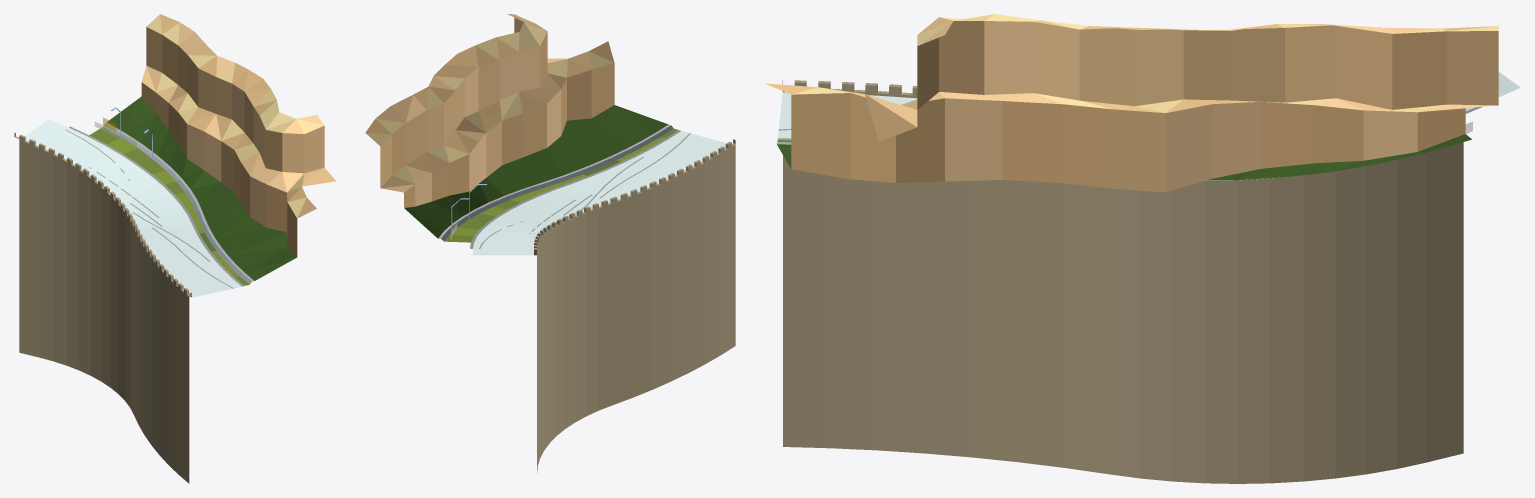
The picture shows the model from 3 angles, left to right: view 1: azimuth 30°, elevation 25°; view 2: azimuth 150°, elevation 25°; view 3: azimuth 270°, elevation 25°; orthographic projection. The views are drawn at different scales.
Parts seen in each view (by area): view 1: O364B0; view 2: O364B0; view 3: O364B0.
Boxes of the visible parts, x1=… form: O364B0: x1=14, y1=14, x2=335, y2=483; O364B0: x1=365, y1=14, x2=735, y2=472; O364B0: x1=764, y1=14, x2=1520, y2=483.
Bounding box in the file's own units: 70.18 × 116 × 139.
